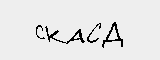А: (64, 28, 86, 46)
Д: (100, 19, 125, 46)
К: (44, 25, 66, 45)
С: (86, 20, 103, 44), (30, 22, 44, 42)
